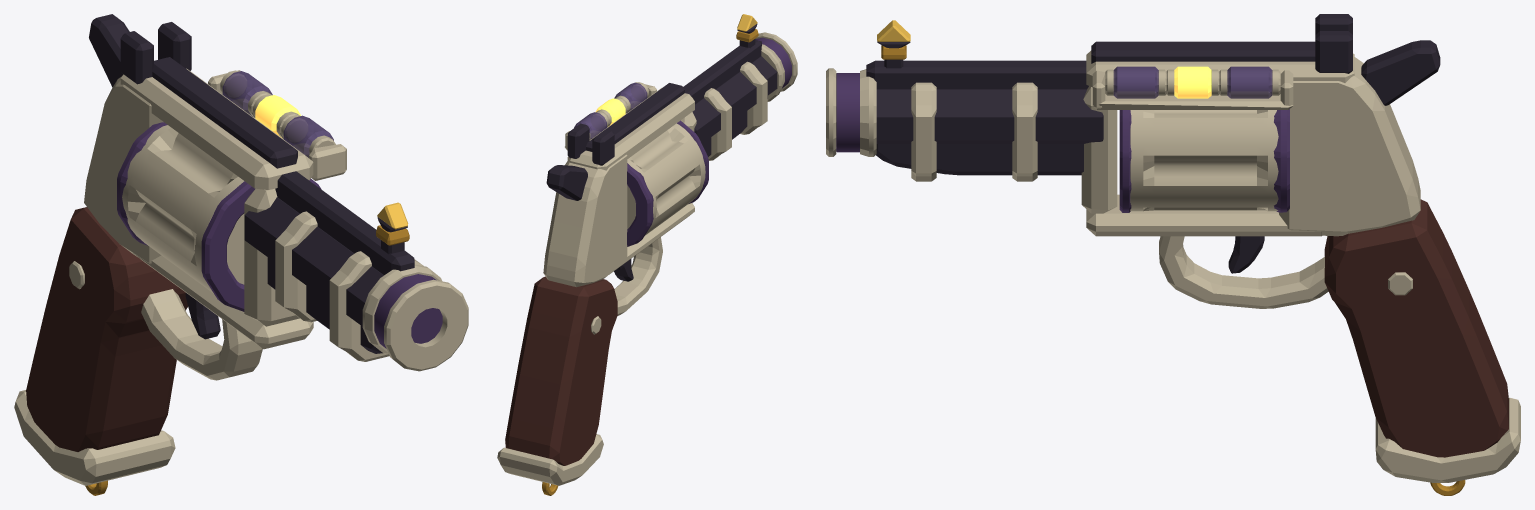
The model's file is w_revolver@revolver_candle.glb.
3 renders of one model, left to right at view 1: azimuth 30°, elevation 25°; view 2: azimuth 150°, elevation 25°; view 3: azimuth 270°, elevation 25°, orthographic. The views are drawn at different scales.
Parts seen in each view (by area): view 1: grip_wzA__wood__p4a2a24, body_wzA__ivory__pc2b79d, barrel_wzN__ivory__pc2b79d, cylinder_wzB__ivory__pc2b79d, barrel_wzB__purple__p2c2633, grip_wzN__ivory__pc2b79d, body_wzB__purple__p2c2633, cylinder_wzN__band__p4c3762, sight_wzN__purple__p2c2633, body_wzN__vial__g5b4a78cc, barrel_wzN__band__p4c3762, body_wzN__ivory__pc2b79d (+4 smaller); view 2: grip_wzA__wood__p4a2a24, body_wzA__ivory__pc2b79d, cylinder_wzB__ivory__pc2b79d, barrel_wzB__purple__p2c2633, barrel_wzN__ivory__pc2b79d, grip_wzN__ivory__pc2b79d, cylinder_wzN__band__p4c3762, body_wzB__purple__p2c2633, sight_wzN__purple__p2c2633, hammer_wzN__purple__p2c2633, body_wzN__vial__g5b4a78cc, body_wzN__ivory__pc2b79d (+2 smaller); view 3: body_wzA__ivory__pc2b79d, grip_wzA__wood__p4a2a24, barrel_wzB__purple__p2c2633, cylinder_wzB__ivory__pc2b79d, barrel_wzN__ivory__pc2b79d, grip_wzN__ivory__pc2b79d, body_wzB__purple__p2c2633, hammer_wzN__purple__p2c2633, body_wzN__vial__g5b4a78cc, cylinder_wzN__band__p4c3762, sight_wzN__purple__p2c2633, barrel_wzN__band__p4c3762 (+3 smaller).
Part boxes in pixels (<box>): grip_wzA__wood__p4a2a24: <box>26,207,187,451</box>; body_wzA__ivory__pc2b79d: <box>84,68,346,380</box>; barrel_wzN__ivory__pc2b79d: <box>275,211,468,371</box>; cylinder_wzB__ivory__pc2b79d: <box>122,125,244,293</box>; barrel_wzB__purple__p2c2633: <box>244,171,414,353</box>; grip_wzN__ivory__pc2b79d: <box>14,261,175,485</box>; body_wzB__purple__p2c2633: <box>152,57,297,168</box>; cylinder_wzN__band__p4c3762: <box>117,122,321,311</box>; sight_wzN__purple__p2c2633: <box>120,22,407,254</box>; body_wzN__vial__g5b4a78cc: <box>222,71,333,157</box>; barrel_wzN__band__p4c3762: <box>374,274,442,348</box>; body_wzN__ivory__pc2b79d: <box>220,70,335,154</box>; grip_wzA__wood__p4a2a24: <box>505,276,617,465</box>; body_wzA__ivory__pc2b79d: <box>543,82,696,315</box>; cylinder_wzB__ivory__pc2b79d: <box>627,123,705,235</box>; barrel_wzB__purple__p2c2633: <box>683,40,777,156</box>; barrel_wzN__ivory__pc2b79d: <box>704,32,797,160</box>; grip_wzN__ivory__pc2b79d: <box>497,316,603,485</box>; cylinder_wzN__band__p4c3762: <box>627,120,708,246</box>; body_wzB__purple__p2c2633: <box>586,83,684,151</box>; sight_wzN__purple__p2c2633: <box>567,24,757,165</box>; hammer_wzN__purple__p2c2633: <box>546,165,587,200</box>; body_wzN__vial__g5b4a78cc: <box>574,82,647,139</box>; body_wzN__ivory__pc2b79d: <box>589,82,648,137</box>; body_wzA__ivory__pc2b79d: <box>1081,50,1420,308</box>; grip_wzA__wood__p4a2a24: <box>1324,199,1508,457</box>; barrel_wzB__purple__p2c2633: <box>866,60,1103,175</box>; cylinder_wzB__ivory__pc2b79d: <box>1130,110,1278,211</box>; barrel_wzN__ivory__pc2b79d: <box>826,68,1037,181</box>; grip_wzN__ivory__pc2b79d: <box>1375,272,1520,482</box>; body_wzB__purple__p2c2633: <box>1091,41,1315,63</box>; hammer_wzN__purple__p2c2633: <box>1361,40,1440,105</box>; body_wzN__vial__g5b4a78cc: <box>1113,66,1272,98</box>; cylinder_wzN__band__p4c3762: <box>1119,109,1289,212</box>; sight_wzN__purple__p2c2633: <box>877,14,1352,73</box>; barrel_wzN__band__p4c3762: <box>836,73,859,152</box>.
Size of the model in its own units: 0.0879 by 0.3297 by 0.4403.
